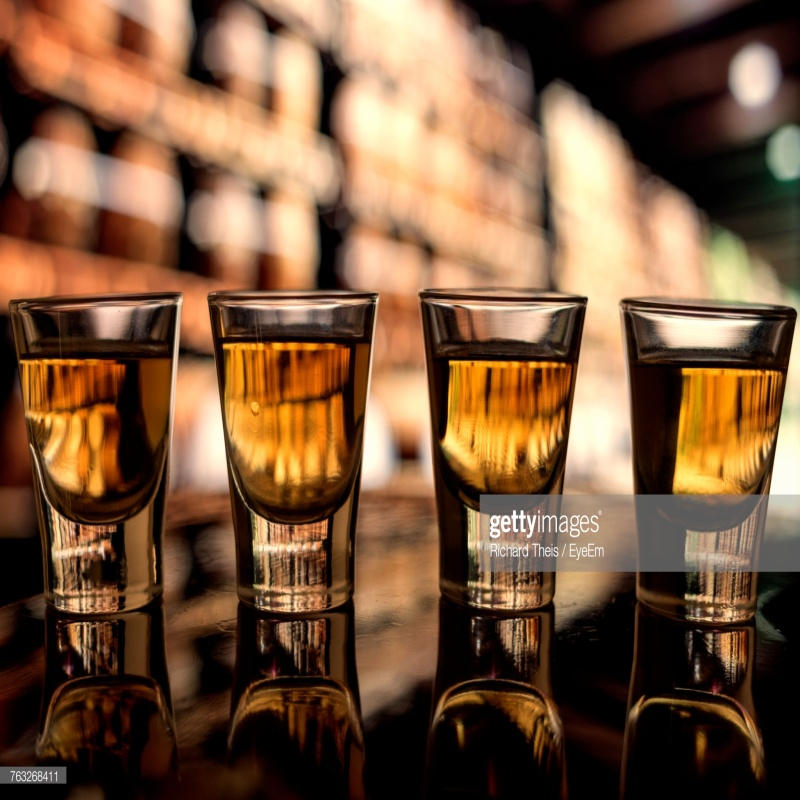whiskey: (215, 289, 371, 603), (622, 300, 783, 603), (16, 300, 182, 591), (421, 288, 582, 585)
